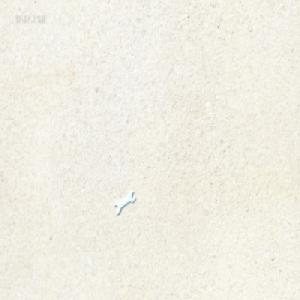Wrench: (114, 190, 135, 216)
